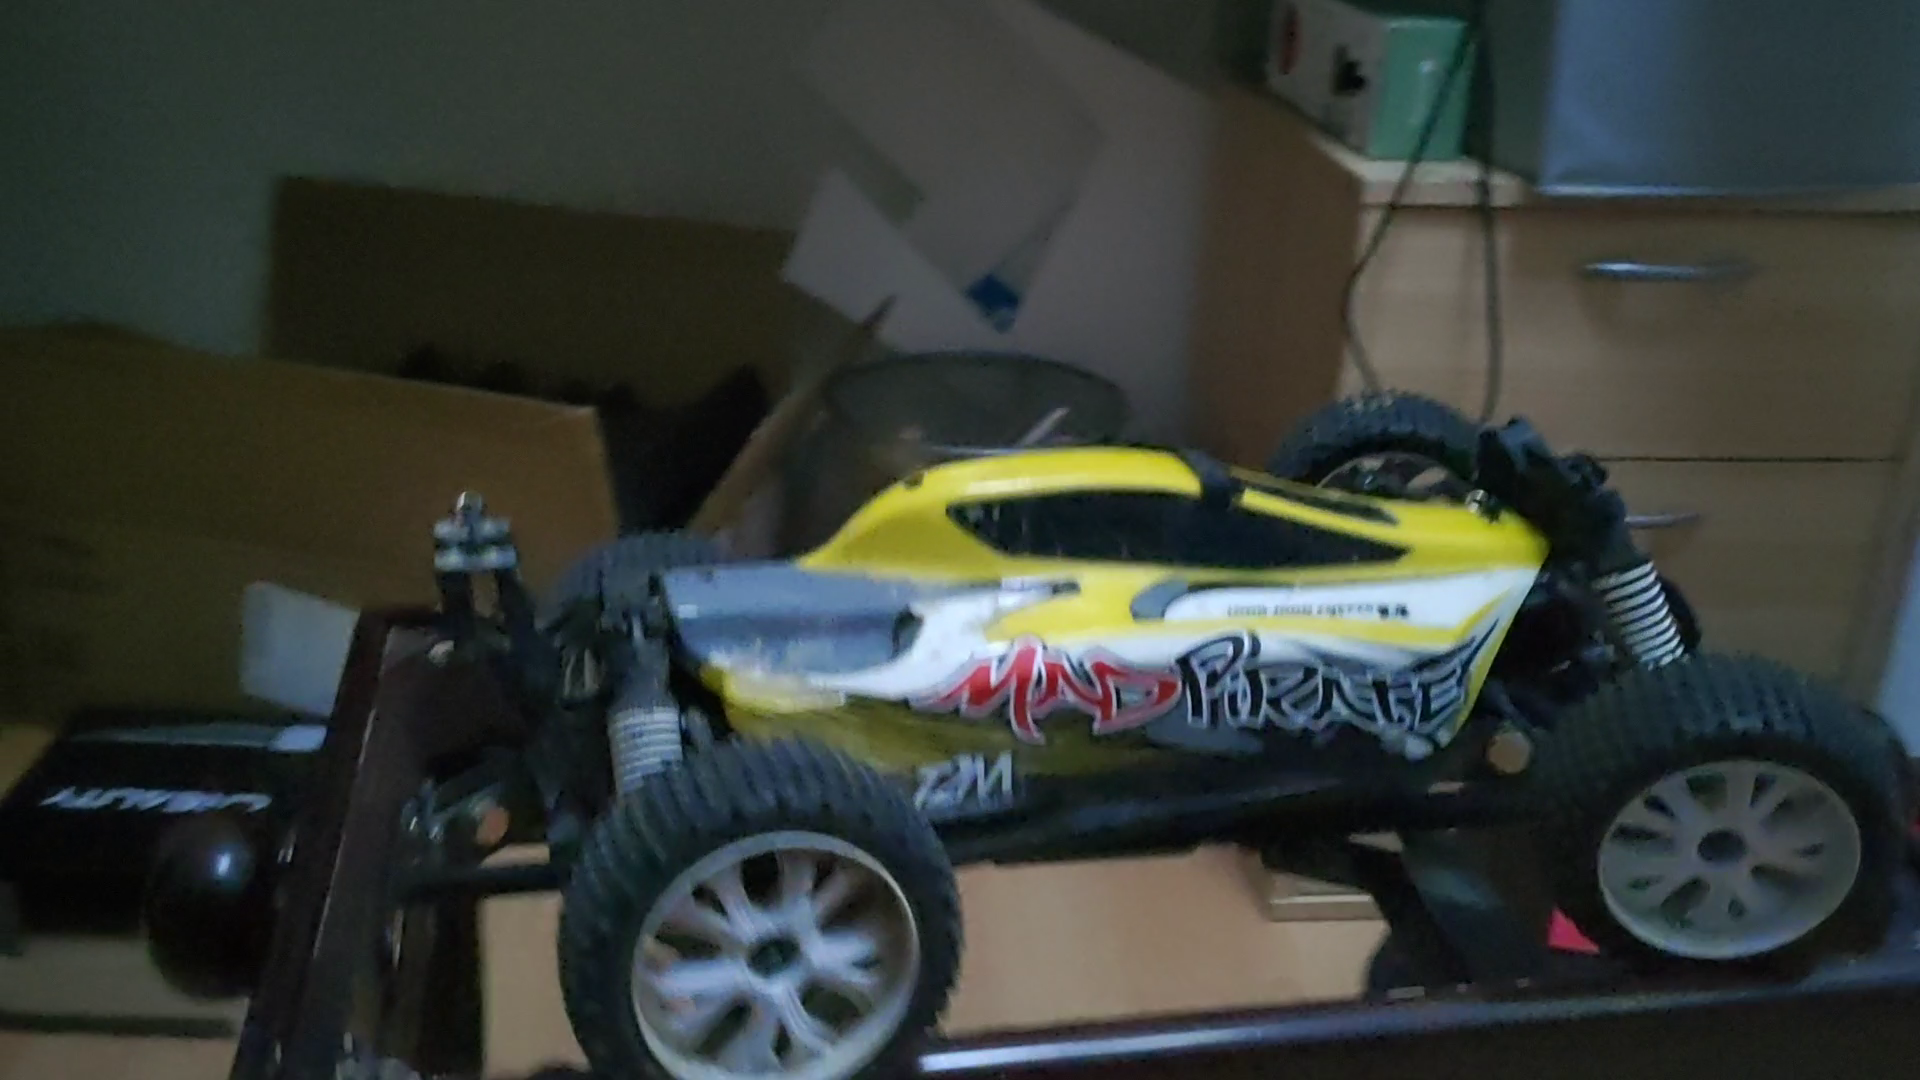buggy: (422, 388, 1913, 1075)
